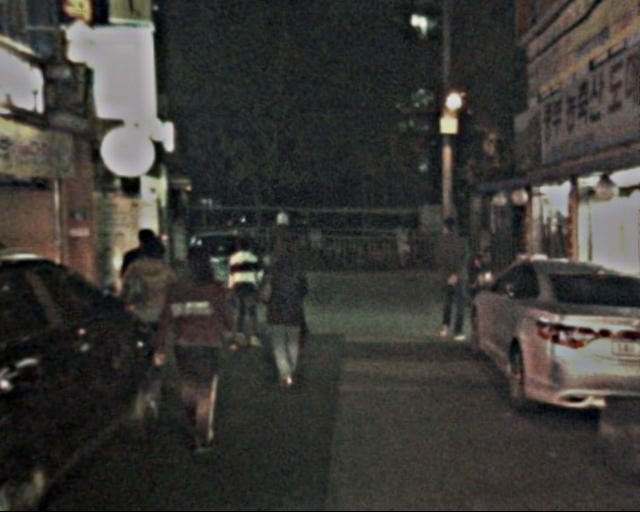person: (160, 237, 239, 457), (255, 234, 316, 392), (124, 240, 184, 385), (429, 213, 477, 347), (222, 235, 269, 349), (258, 206, 301, 312)
